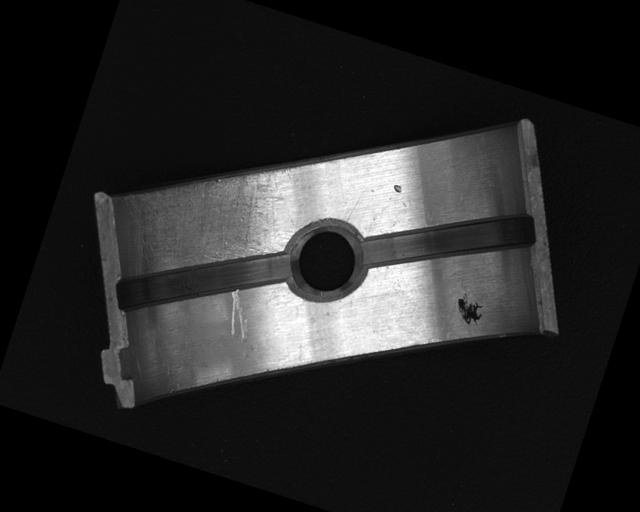blot: (449, 291, 488, 330)
bruise: (391, 183, 403, 194)
gap: (104, 205, 297, 359), (356, 168, 546, 314)
hole: (280, 213, 370, 304)
nick: (216, 287, 260, 344)
scratch: (102, 126, 303, 312)
